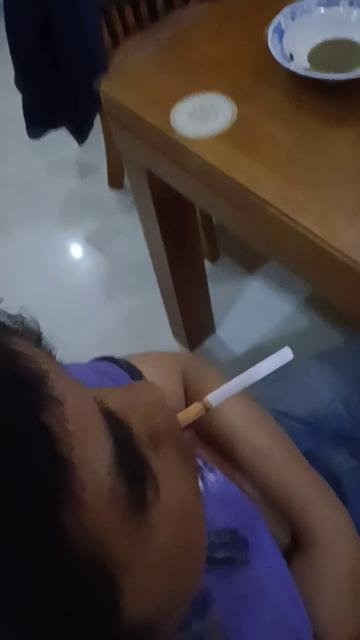Cigarette: (177, 342, 297, 430)
